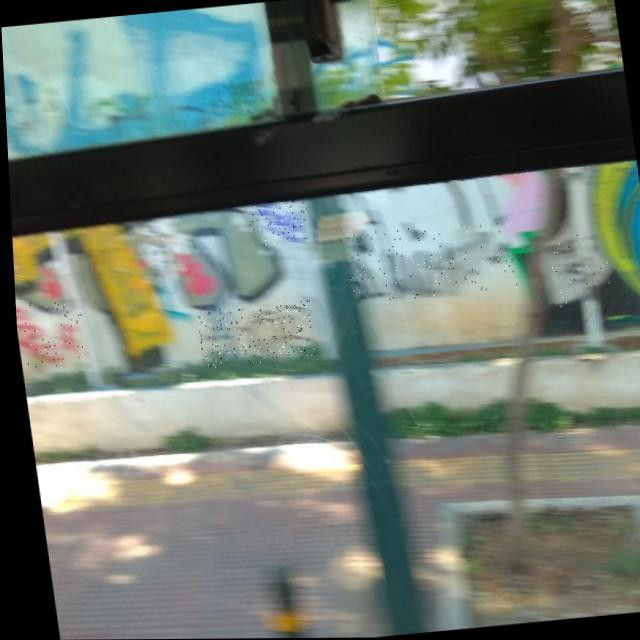-: (337, 216, 518, 305), (192, 300, 314, 368), (536, 232, 612, 310), (12, 298, 84, 370), (247, 199, 308, 246)
